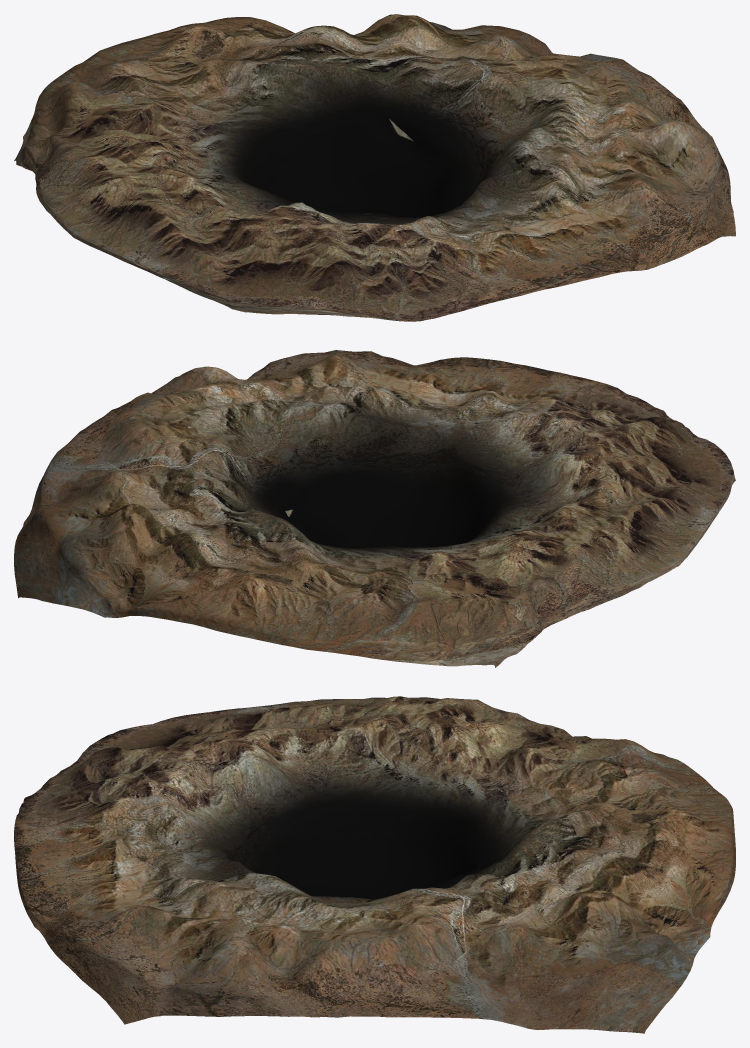
The model's file is kraterrenksiz.glb.
3 views of the same model, one above another, from view 1: azimuth 30°, elevation 25°; view 2: azimuth 150°, elevation 25°; view 3: azimuth 270°, elevation 25° (orthographic). The views are drawn at different scales.
Parts seen in each view (by area): view 1: Object_2; view 2: Object_2; view 3: Object_2.
Part boxes in pixels (x1,y1,x2,y2): Object_2: [14, 14, 735, 321]; Object_2: [14, 350, 735, 667]; Object_2: [14, 696, 735, 1033].
Bounding box in the file's own units: 6.57 × 1.02 × 6.65.
Materials: 1 (1 with a texture image).
